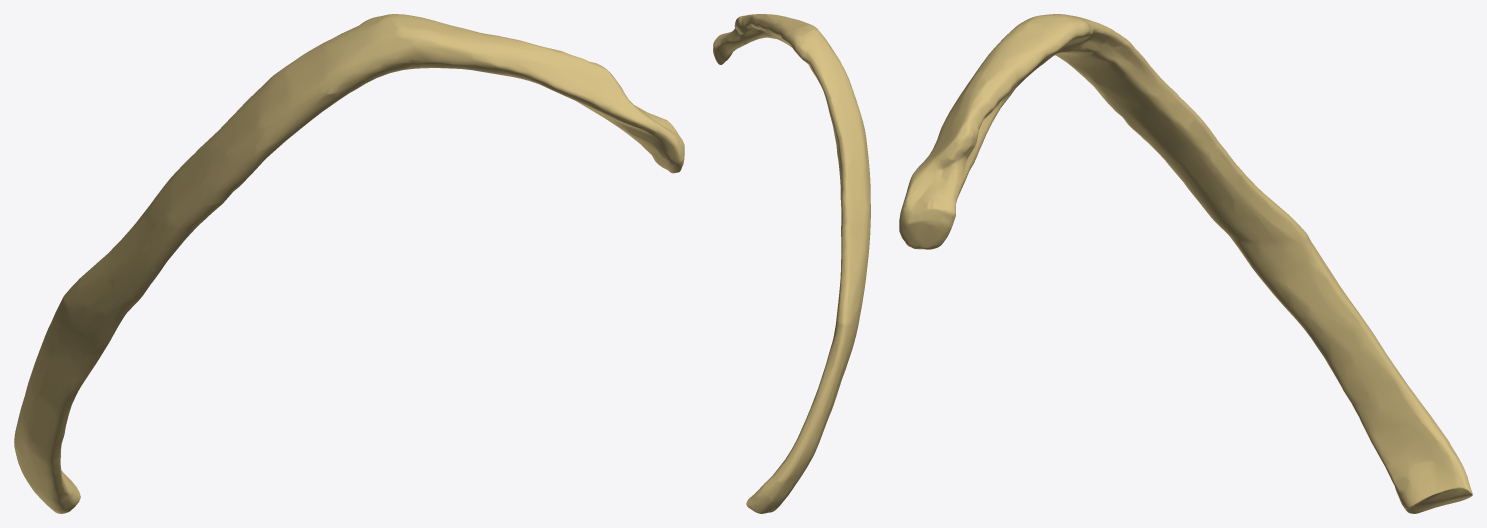
The picture shows the model from 3 angles, left to right: view 1: azimuth 30°, elevation 25°; view 2: azimuth 150°, elevation 25°; view 3: azimuth 270°, elevation 25°; orthographic projection. The views are drawn at different scales.
Visible parts, largest first — view 1: 右侧第八肋; view 2: 右侧第八肋; view 3: 右侧第八肋.
Boxes of the visible parts, bbox=[...] form: 右侧第八肋: bbox=[14, 14, 684, 513]; 右侧第八肋: bbox=[713, 14, 870, 513]; 右侧第八肋: bbox=[899, 14, 1472, 513].
Size of the model in its own units: 0.1737 by 0.2408 by 0.2233.
